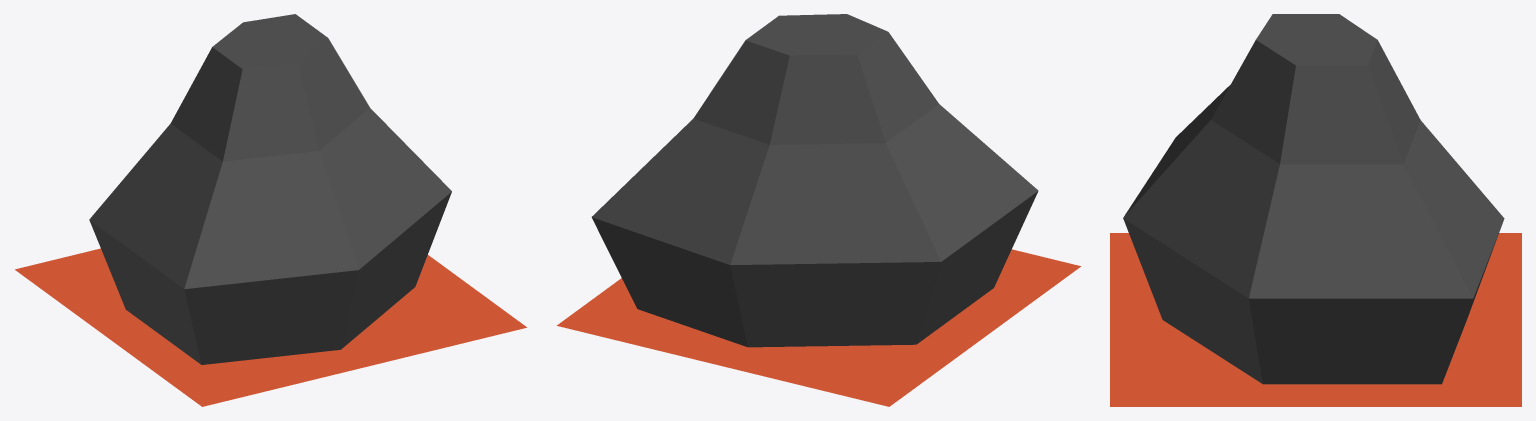
Rendered from akadaly.glb.
3 views of the same model, side by side, from view 1: azimuth 30°, elevation 25°; view 2: azimuth 150°, elevation 25°; view 3: azimuth 270°, elevation 25° (orthographic). The views are drawn at different scales.
Visible parts, largest first — view 1: Plane, Plane.001; view 2: Plane, Plane.001; view 3: Plane, Plane.001.
Part boxes in pixels (bbox=[...]): Plane: bbox=[89, 14, 451, 364]; Plane.001: bbox=[15, 248, 526, 406]; Plane: bbox=[591, 14, 1038, 347]; Plane.001: bbox=[556, 249, 1080, 406]; Plane: bbox=[1123, 14, 1504, 384]; Plane.001: bbox=[1110, 233, 1521, 406].
Bounding box in the file's own units: 2 × 1.5 × 2.
